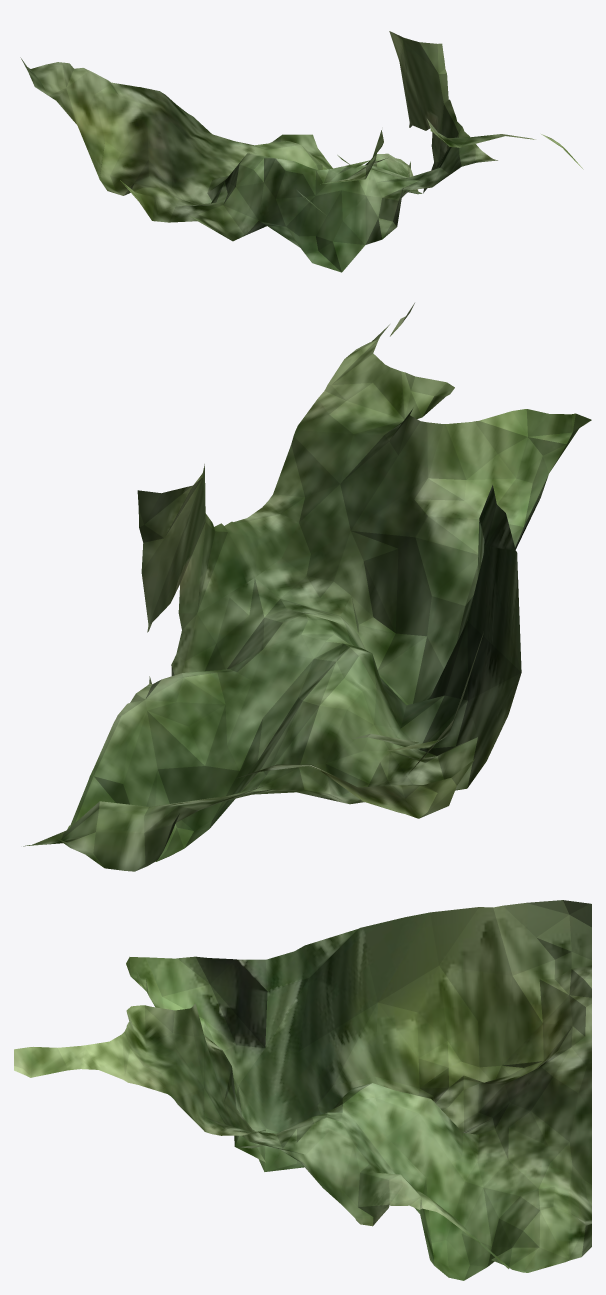
3 views of the same model, one above another, from view 1: azimuth 30°, elevation 25°; view 2: azimuth 150°, elevation 25°; view 3: azimuth 270°, elevation 25° (orthographic). The views are drawn at different scales.
Size of the model in its own units: 1.88 by 1.39 by 2.95.
Materials: 2 (2 with a texture image).
